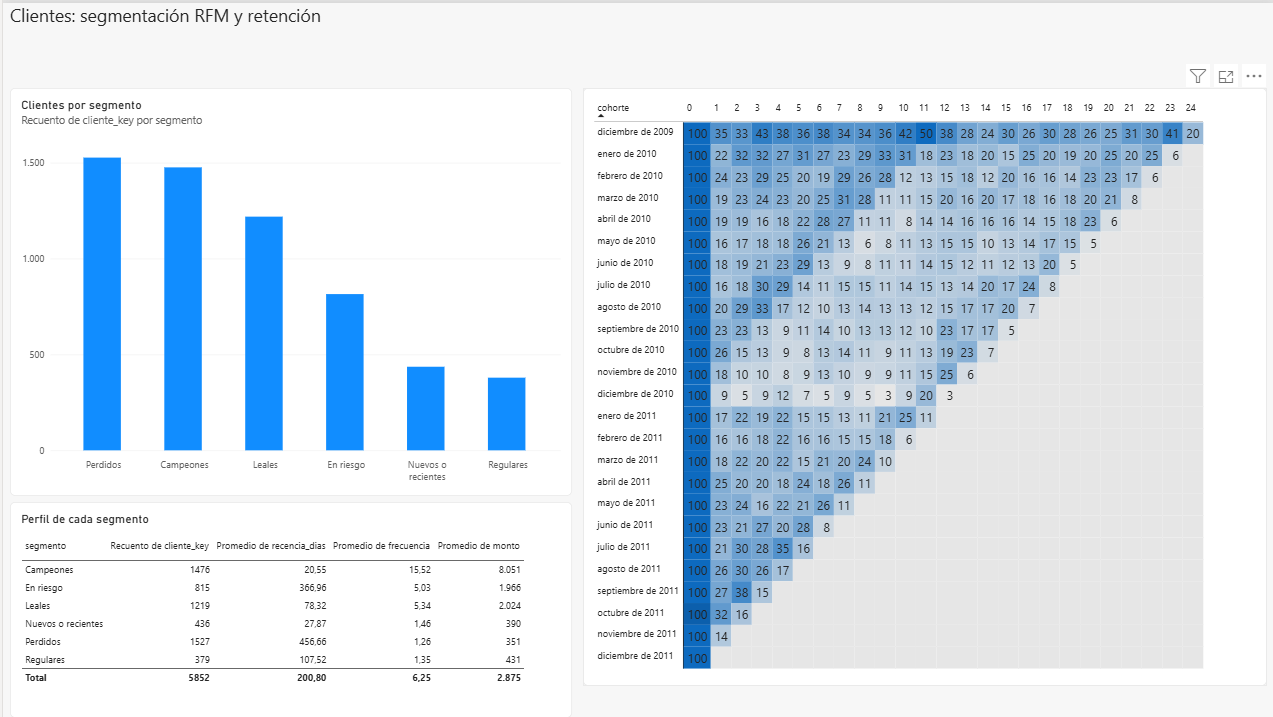

The dashboard page shown, as its layout file describes it:
{"tool":"powerbi","page":{"name":"Clientes y RFM","canvas":[1920,1080],"ordinal":1},"visuals":[{"type":"textbox","box":[10.2,0,516.5,61.3],"z":0},{"type":"clusteredColumnChart","title":"Clientes por segmento","fields":{"Category":["vw_rfm.segmento"],"Y":["CountNonNull(vw_rfm.cliente_key)"]},"box":[10.6,128.4,849,616.3],"z":1},{"type":"pivotTable","fields":{"Columns":["vw_cohortes.meses_desde_inicio"],"Rows":["vw_cohortes.cohorte"],"Values":["Sum(vw_cohortes.retencion_pct)"]},"box":[876.2,128.4,1033.3,903.4],"z":2},{"type":"tableEx","title":"Perfil de cada segmento","fields":{"Values":["vw_rfm.segmento","vw_rfm.cliente_key","Avg(vw_rfm.recencia_dias)","Avg(vw_rfm.frecuencia)","Avg(vw_rfm.monto)"]},"box":[11,754,849,326],"z":3}]}

Visuals, with their boxes in screenshot pixels (x1, y1, x2, y2), scaled from the page's 1920x1080 canvas onto the 1273x717 screenshot:
textbox: [x1=7, y1=0, x2=349, y2=41]
"Clientes por segmento" clusteredColumnChart: [x1=7, y1=85, x2=570, y2=494]
pivotTable - vw_cohortes.meses_desde_inicio x vw_cohortes.cohorte: [x1=581, y1=85, x2=1266, y2=685]
"Perfil de cada segmento" tableEx: [x1=7, y1=501, x2=570, y2=716]
